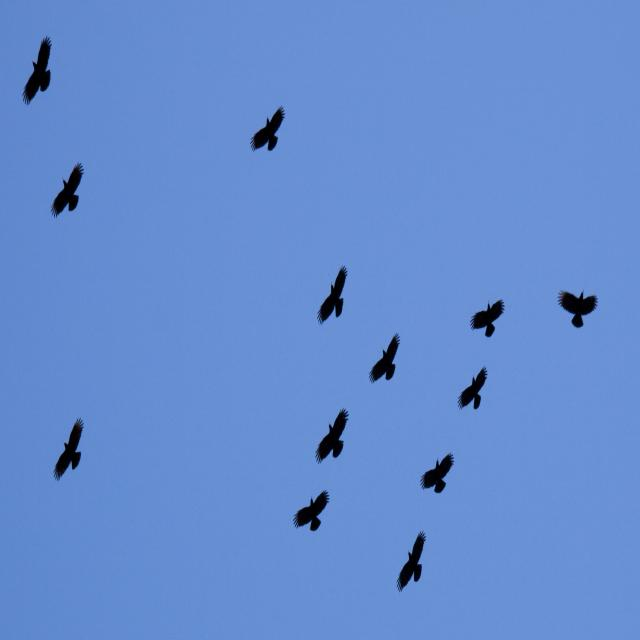bird: (23, 34, 54, 108), (53, 416, 86, 480), (249, 106, 288, 158), (315, 264, 348, 325), (395, 530, 427, 592), (314, 407, 348, 465), (51, 163, 85, 219), (558, 290, 599, 330), (370, 336, 403, 384), (295, 490, 330, 532), (472, 299, 506, 340), (422, 452, 454, 493), (459, 368, 488, 413)
